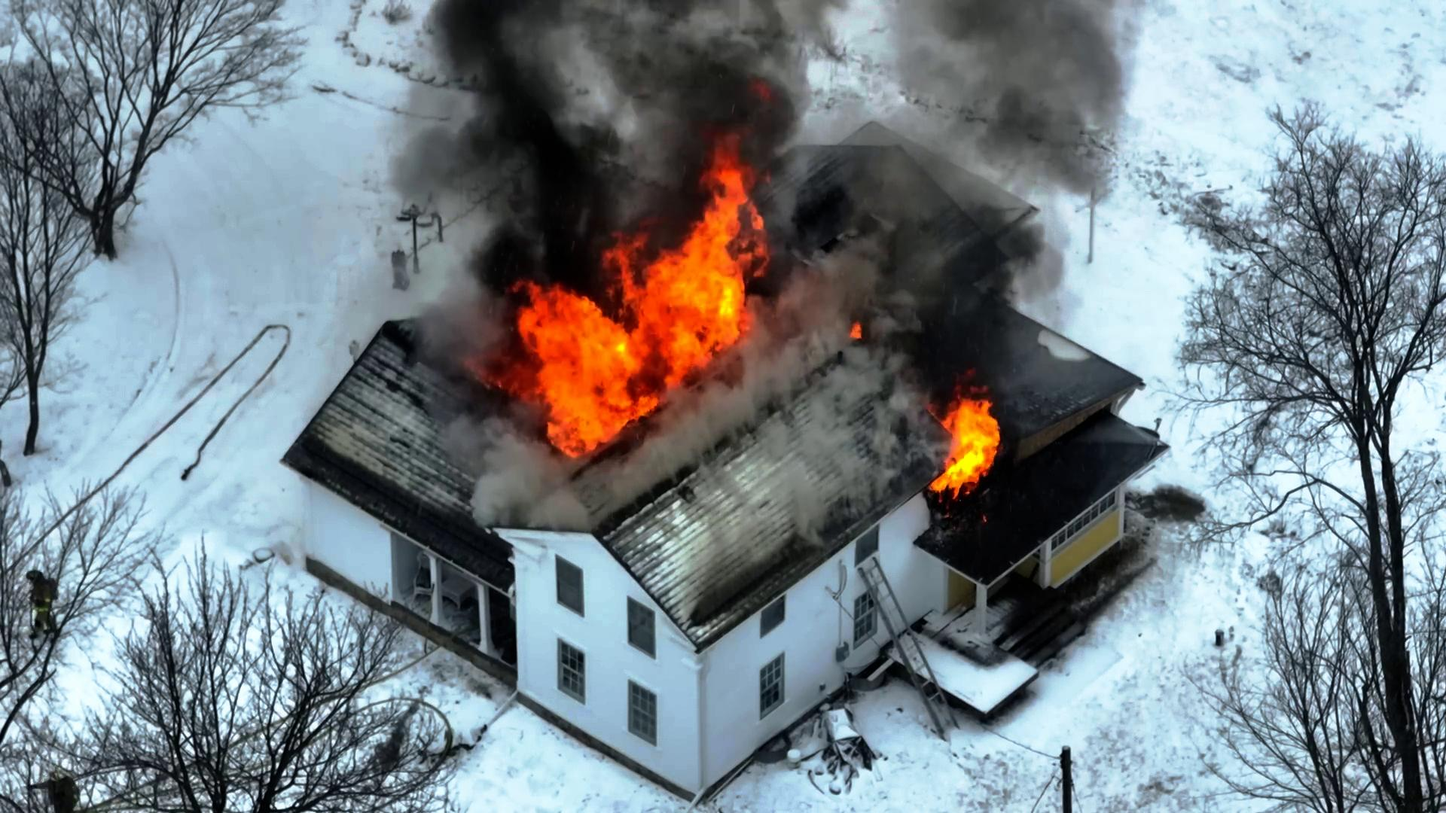fire: (641, 138, 757, 375), (522, 277, 642, 452), (938, 397, 1007, 494)
smoke: (486, 78, 596, 258)
